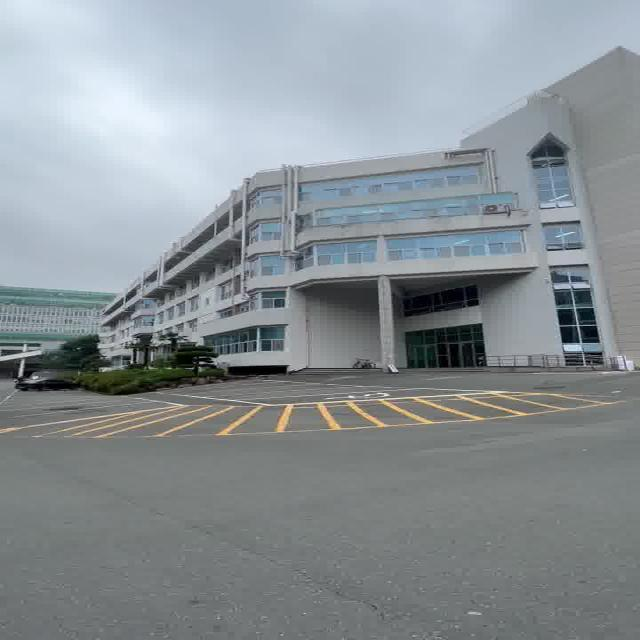building: (162, 151, 640, 364)
